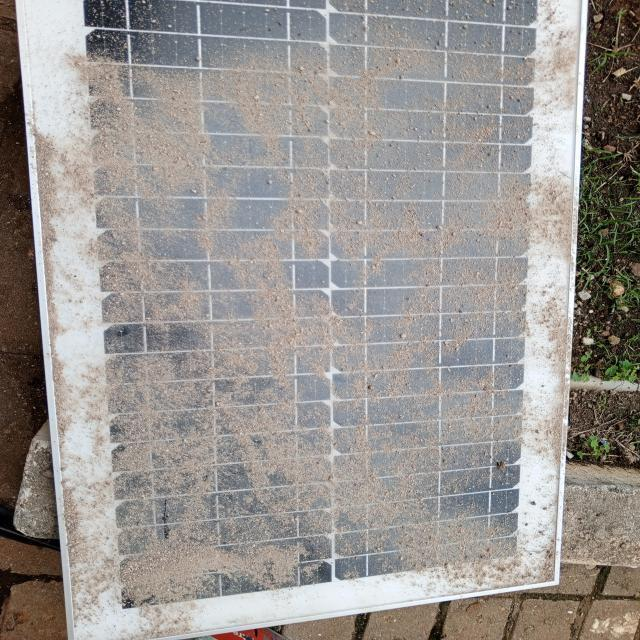Anomaly Solar Panel: (55, 3, 552, 608)
Surface Contaminant: (90, 42, 556, 582)
